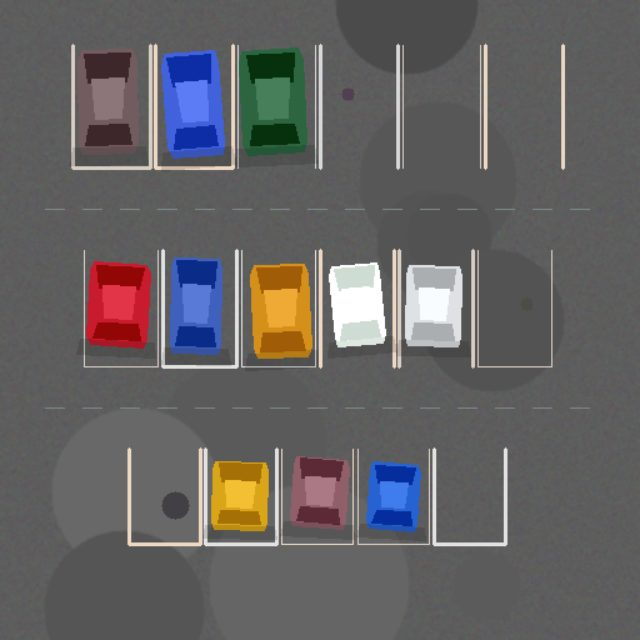space-empty: (320, 45, 398, 168), (402, 45, 480, 168), (485, 45, 562, 168), (478, 250, 551, 366), (129, 449, 200, 544), (434, 449, 505, 544)
space-occupied: (72, 45, 150, 168), (155, 45, 232, 168), (238, 45, 315, 168), (84, 250, 158, 366), (162, 250, 236, 366), (241, 250, 315, 366), (320, 250, 394, 366), (399, 250, 472, 366), (205, 449, 276, 544), (281, 449, 352, 544), (358, 449, 429, 544)
